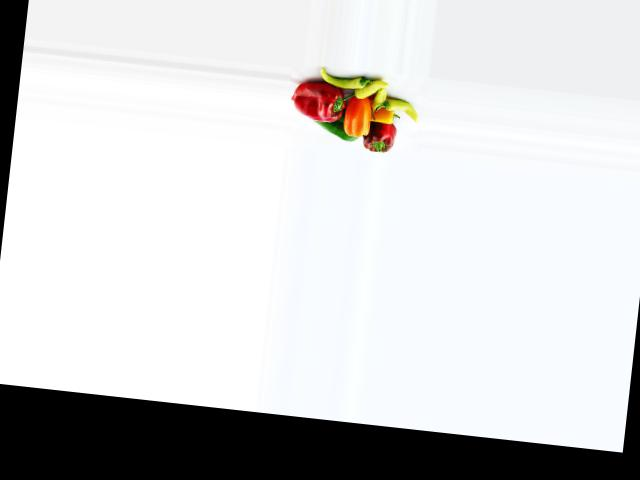bell_pepper: (315, 67, 375, 90)
